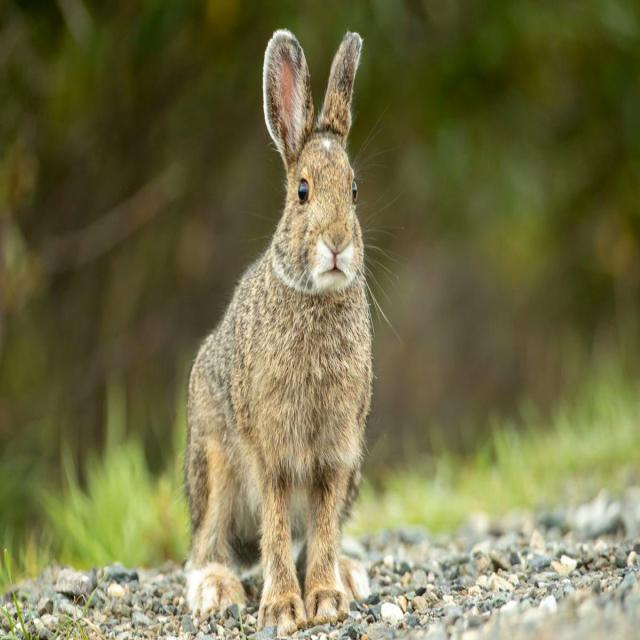hare: (186, 30, 372, 635)
